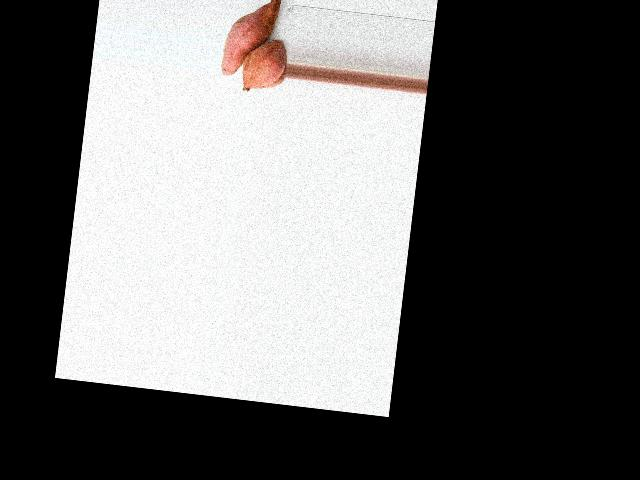sweet_potato: (244, 39, 283, 95)
